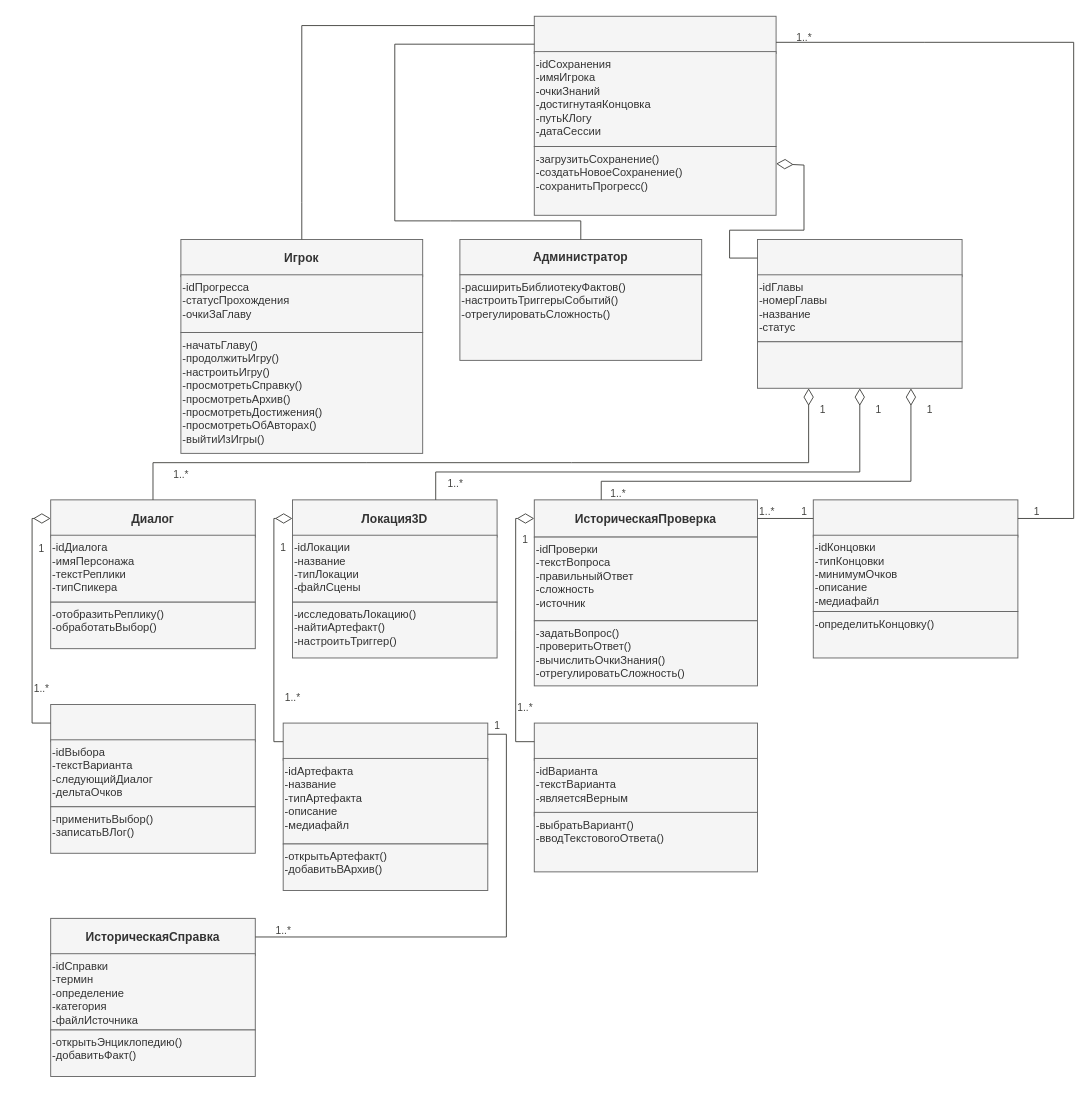
This 1091x1093 diagram has some shape labels left out. The centre of each missing label's shape, as x and y in pixels:
-загрузитьГлаву() -завершитьГлаву(): the point at 859,364
Артефакт: the point at 385,741
Вариант Ответа: the point at 645,741
Выбор: the point at 152,723
Глава: the point at 859,258
Концовка: the point at 915,518
Сохранение: the point at 654,34
